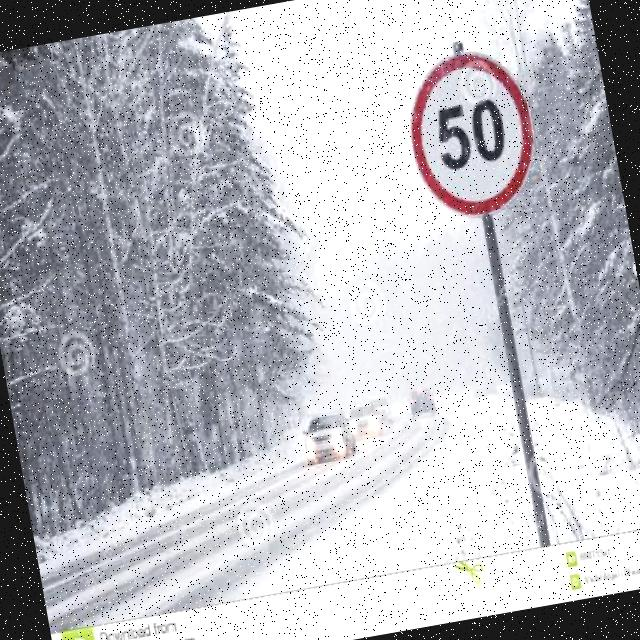Ograniczenie predkosci do 50: (398, 44, 545, 226)
